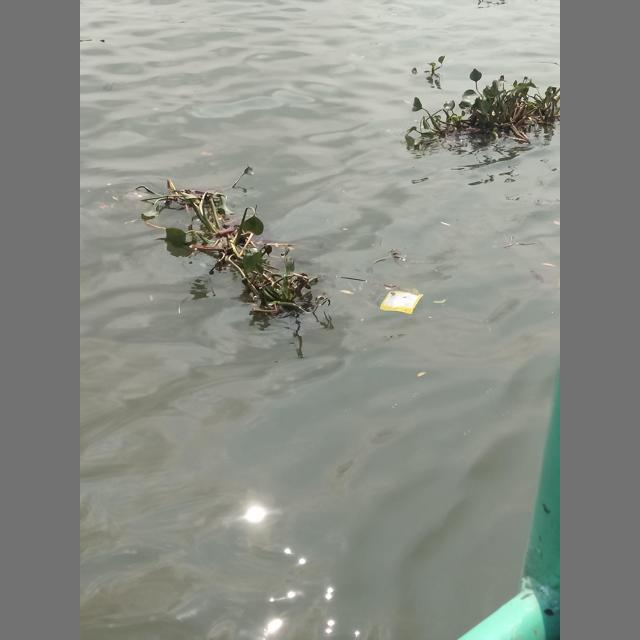litter: (379, 291, 424, 314)
